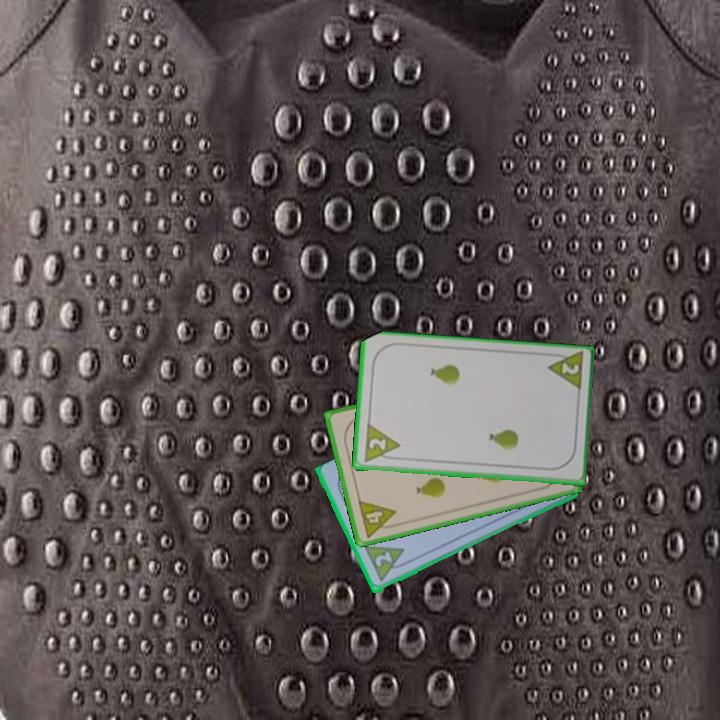2p: (360, 421, 402, 466), (543, 350, 585, 395), (371, 548, 395, 570)
4p: (354, 496, 402, 540)
